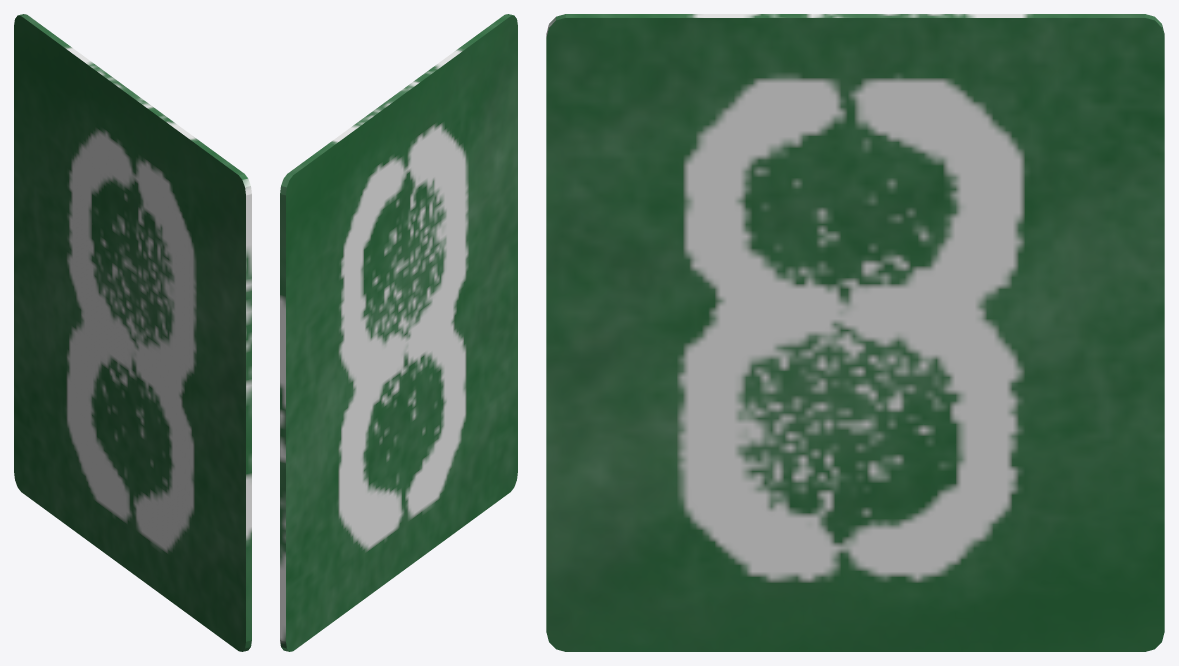
Rendered from DecalNumberEight.fbx.
3 views of the same model, side by side, from view 1: azimuth 30°, elevation 25°; view 2: azimuth 150°, elevation 25°; view 3: azimuth 270°, elevation 25° (orthographic). The views are drawn at different scales.
Parts seen in each view (by area): view 1: DecalNumberEight; view 2: DecalNumberEight; view 3: DecalNumberEight.
Boxes of the visible parts, left/top/right/bottom form: DecalNumberEight: left=14, top=14, right=251, bottom=651; DecalNumberEight: left=280, top=14, right=517, bottom=651; DecalNumberEight: left=546, top=14, right=1164, bottom=651.
Size of the model in its own units: 5.01e-05 by 0.00385 by 0.0034.
